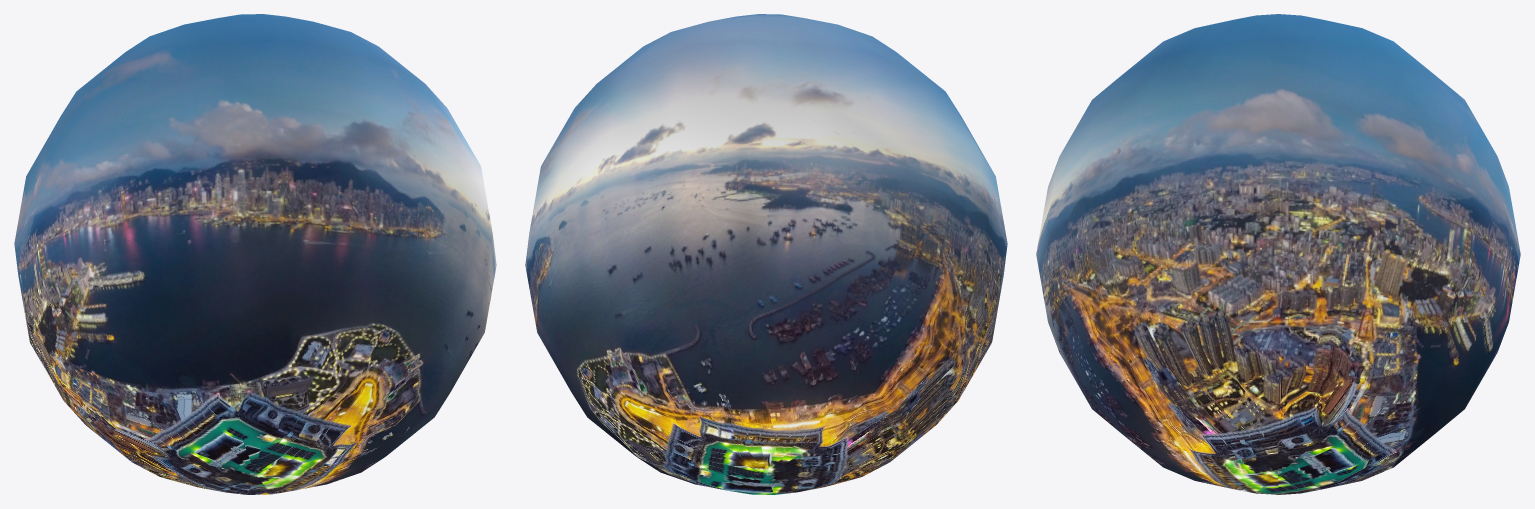
The model's file is Spatial Skybox Sample.gltf.
3 views of the same model, side by side, from view 1: azimuth 30°, elevation 25°; view 2: azimuth 150°, elevation 25°; view 3: azimuth 270°, elevation 25° (orthographic).
Parts seen in each view (by area): view 1: Skybox; view 2: Skybox; view 3: Skybox.
Part boxes in pixels (x1,y1,x2,y2): Skybox: (14,14,496,494); Skybox: (525,14,1007,494); Skybox: (1036,14,1520,494).
Size of the model in its own units: 500 by 500 by 500.
1 material, 1 textured.
